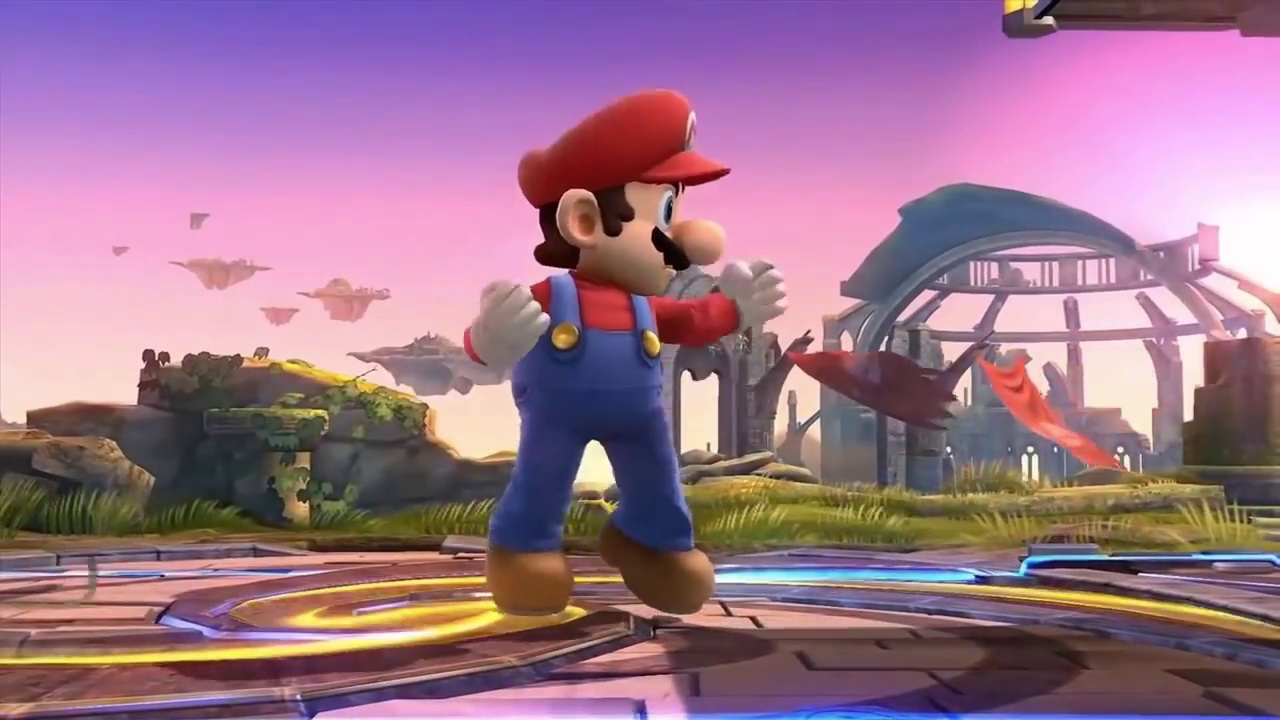Mario: (464, 89, 784, 617)
